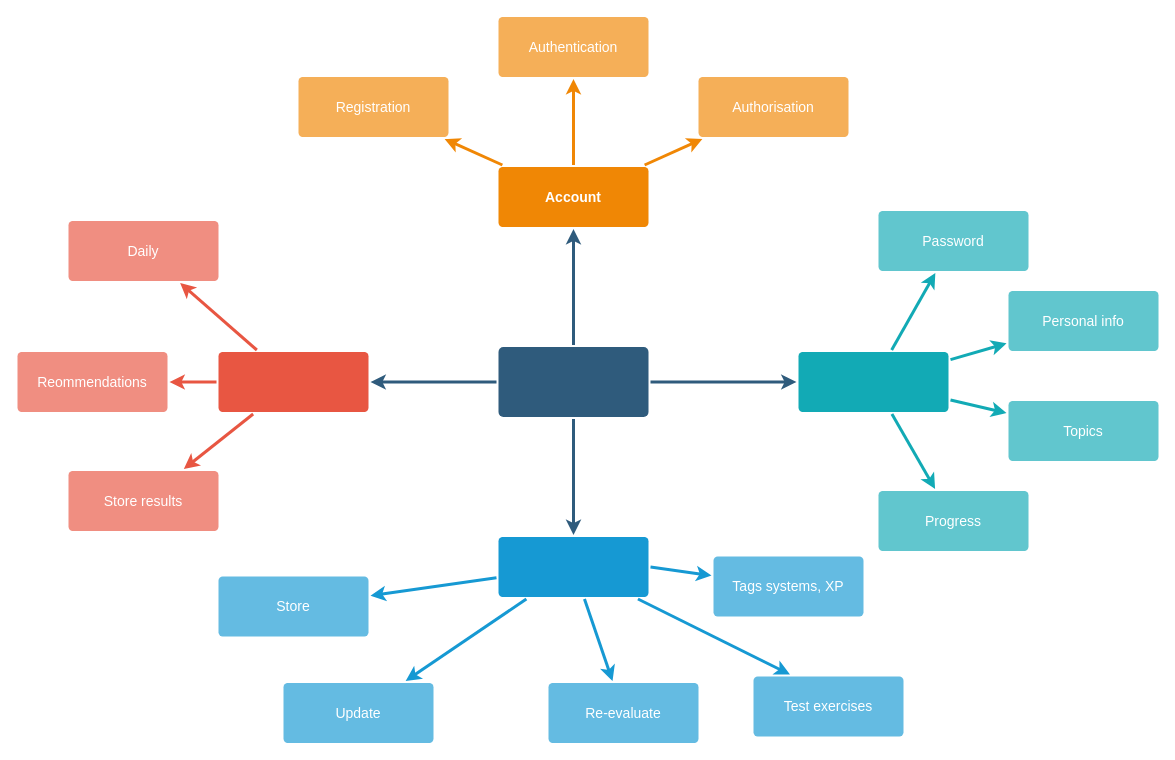
Some shapes in this 1175 by 760 pixel diagram are drawn without their labels. Here are the shapes that lost their labels. From the top down, the centre of each, then its label:
At point 293,382: "Exercises".
At point 573,381: "Kittysh".
At point 873,382: "Personal account".
At point 573,566: "User language level".
